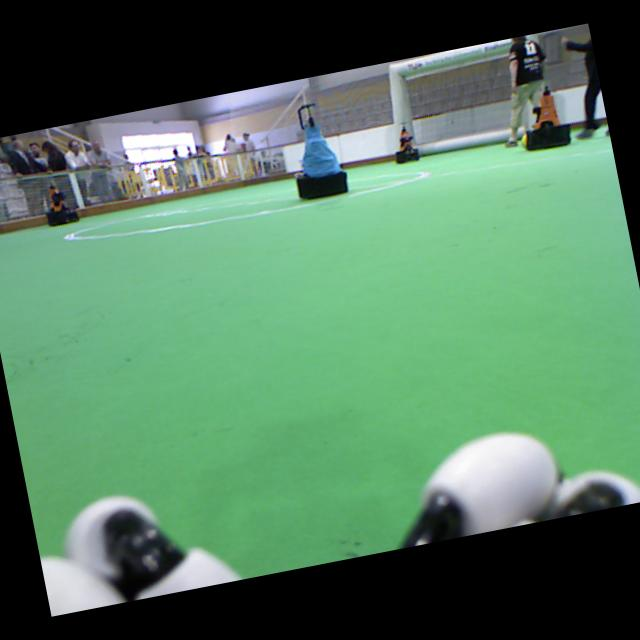ball: (521, 133, 526, 151)
robot: (525, 82, 571, 151), (47, 178, 78, 227), (394, 122, 420, 165)
